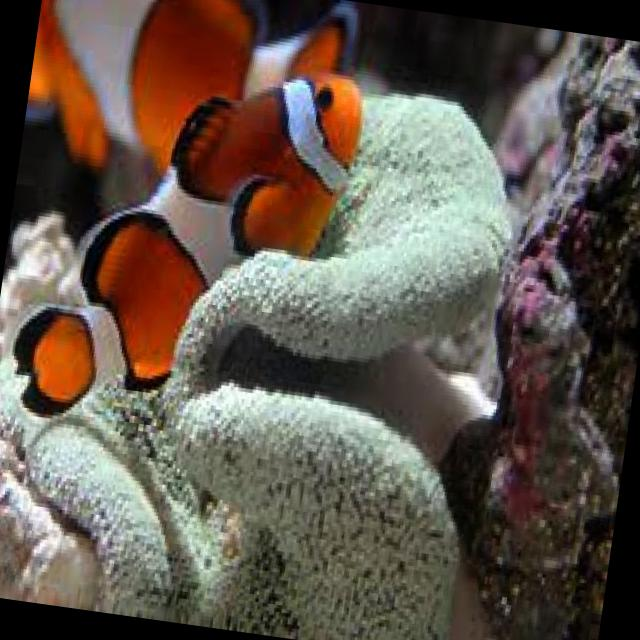ClownFish: (5, 36, 361, 455), (26, 0, 362, 196)
